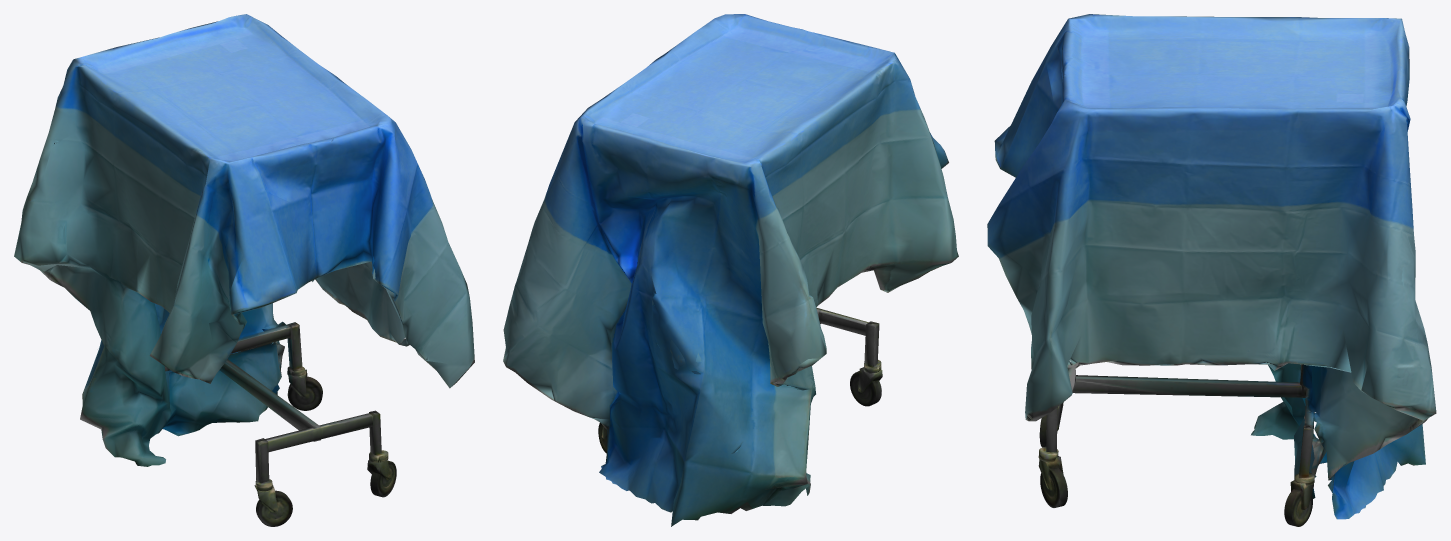
Rendered from single_empty_table.fbx.
3 views of the same model, side by side, from view 1: azimuth 30°, elevation 25°; view 2: azimuth 150°, elevation 25°; view 3: azimuth 270°, elevation 25° (orthographic). The views are drawn at different scales.
Parts seen in each view (by area): view 1: Surgical_Table_Single_Empty; view 2: Surgical_Table_Single_Empty; view 3: Surgical_Table_Single_Empty.
Boxes of the visible parts, box(x1,y1,x2,y2) form: Surgical_Table_Single_Empty: box(14, 14, 474, 526); Surgical_Table_Single_Empty: box(503, 14, 958, 526); Surgical_Table_Single_Empty: box(987, 14, 1436, 526).
Size of the model in its own units: 1.07 by 1.18 by 1.2.
1 material, 1 textured.
